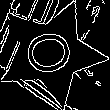O_E: (22, 27, 81, 79)
